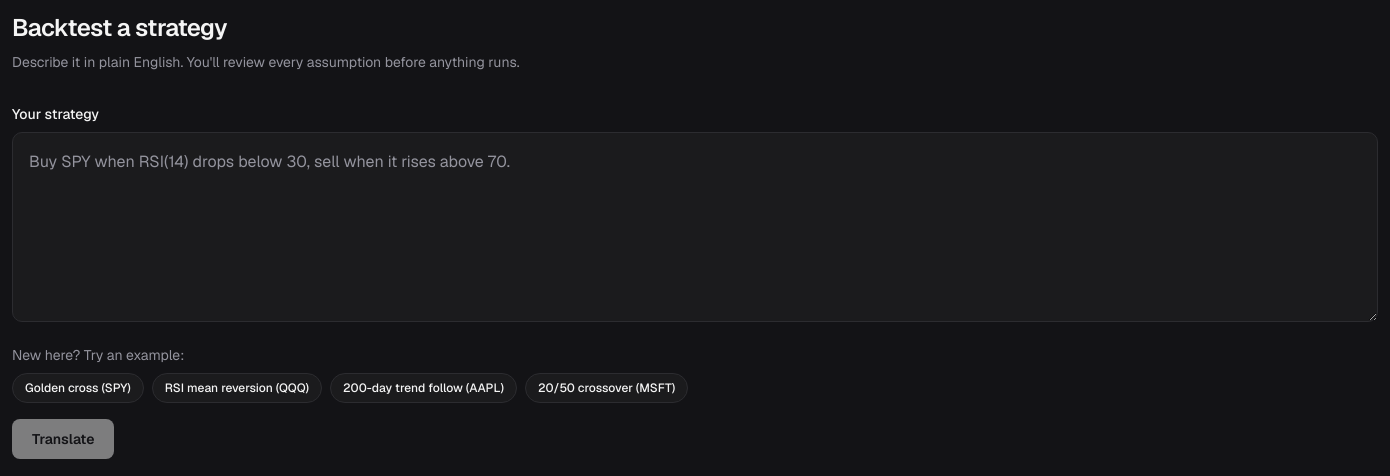
Test case: CONTRACT 7: example strategy chips prefill the textarea, never submit on their own › clicking a chip prefills the textarea with that example's full strategy text
Click the button with test id "example-strategy" at (78, 388), box [12,373,144,403]
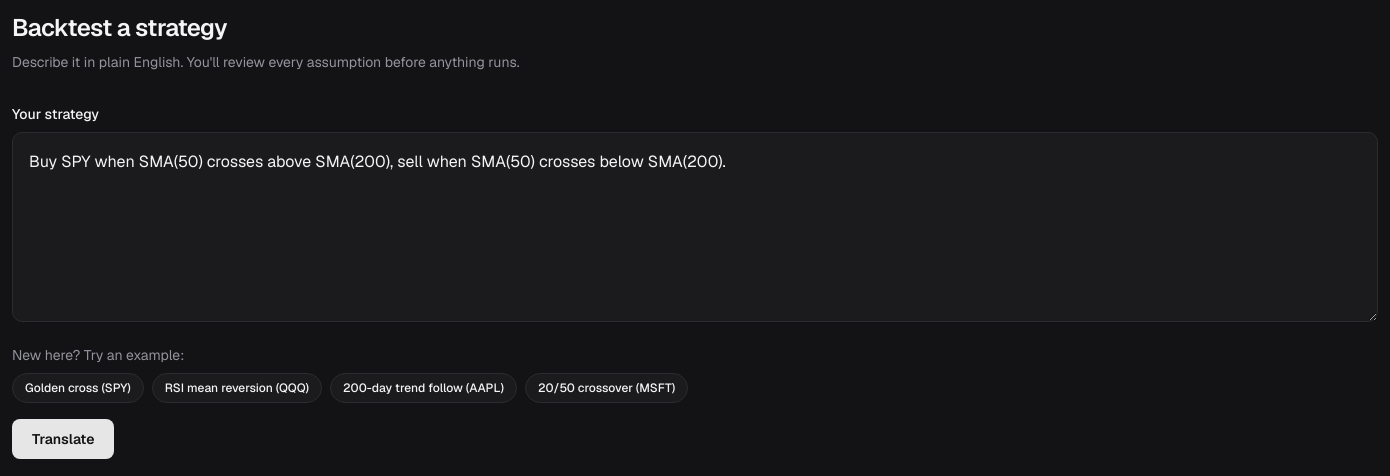
Expected: the text box with test id "nl-input" does not hold "Golden cross (SPY)", [12,132,1378,322]
